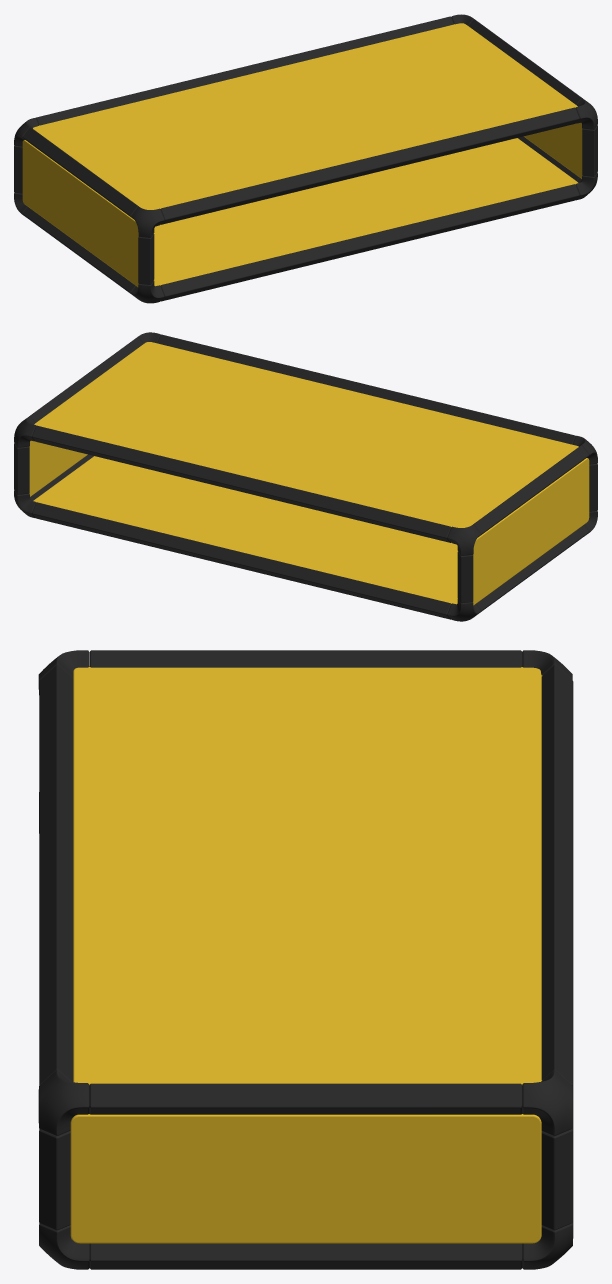
The picture shows the model from 3 angles, top to bottom: view 1: azimuth 30°, elevation 25°; view 2: azimuth 150°, elevation 25°; view 3: azimuth 270°, elevation 25°; orthographic projection. The views are drawn at different scales.
Visible parts, largest first — view 1: 729x329x79; view 2: 729x329x79; view 3: 729x329x79.
Part boxes in pixels (left/top/right/bottom): 729x329x79: left=14, top=14, right=597, bottom=303; 729x329x79: left=14, top=332, right=597, bottom=621; 729x329x79: left=38, top=650, right=573, bottom=1269.
Size of the model in its own units: 0.8067 by 0.1566 by 0.4063.
